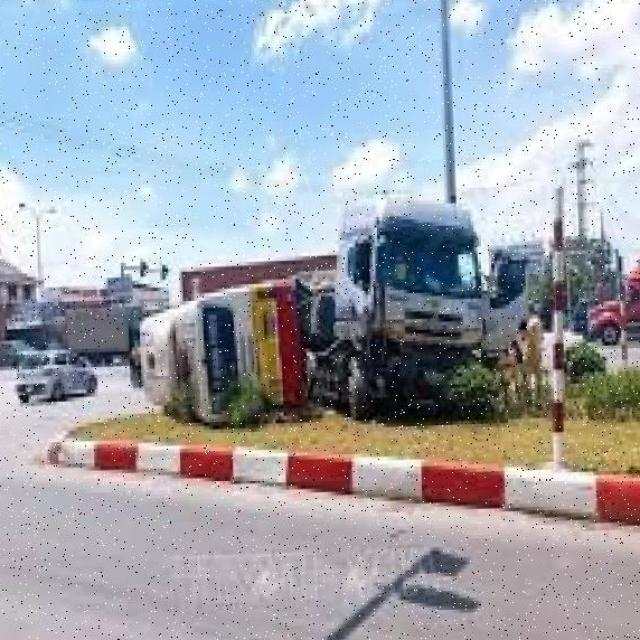accident: (280, 189, 561, 444), (109, 269, 331, 447)
